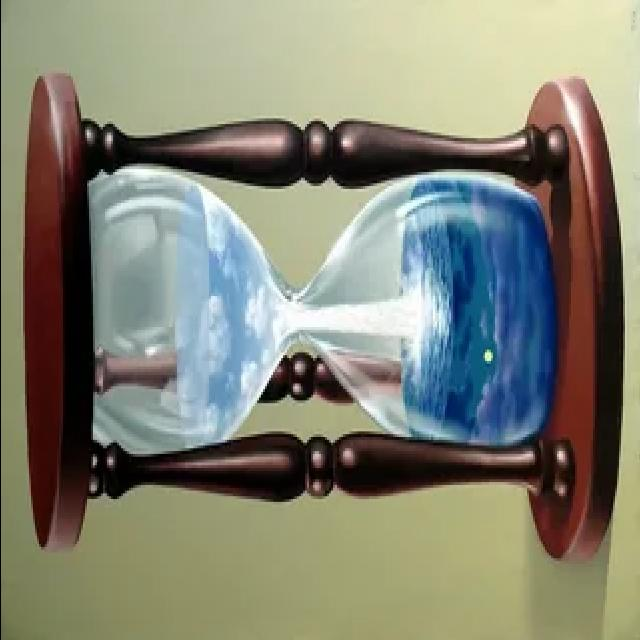clock: (9, 69, 636, 559)
